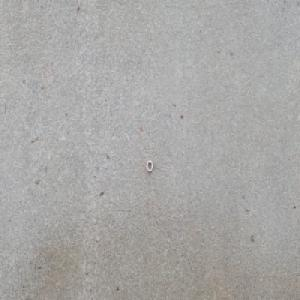Nut: (146, 159, 154, 172)
